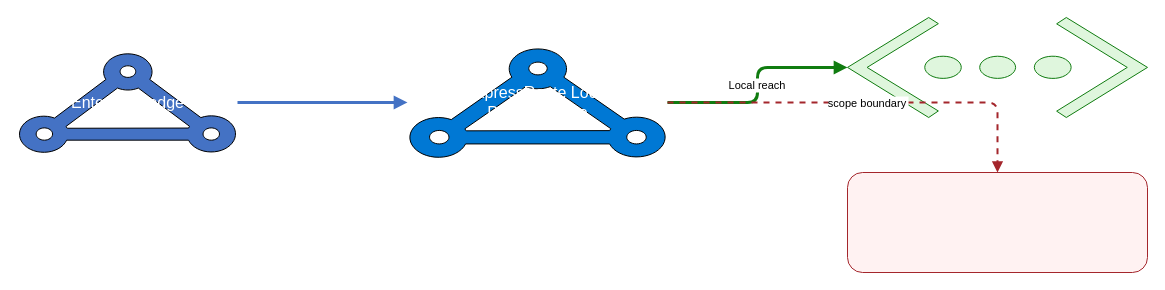
Image size: 1165x290. Some labels were removed from this diagram. The shapes that lost their labels are listed below. From the top down, each one's box as (x1, y1, x2, y2) in pixels, then its label:
(846, 16, 1148, 118): Eligible nearby Azure regions
(846, 172, 1148, 272): Remote Azure regions / Global Reach Not in Local scope
